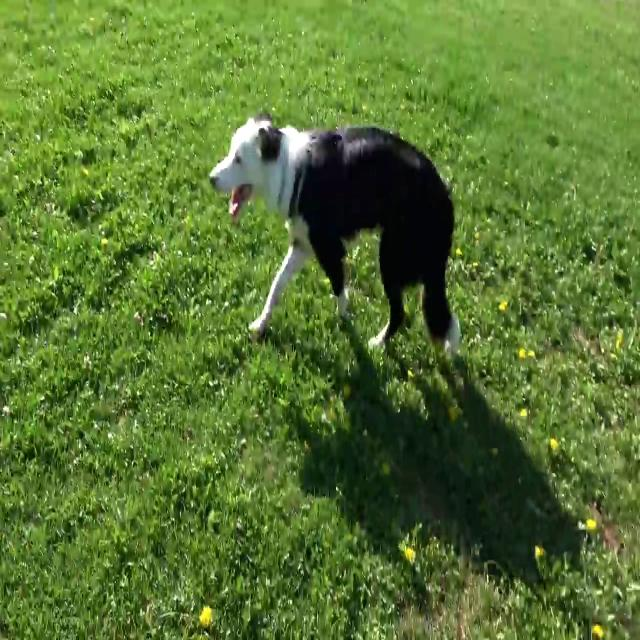Dog: (209, 111, 461, 353)
